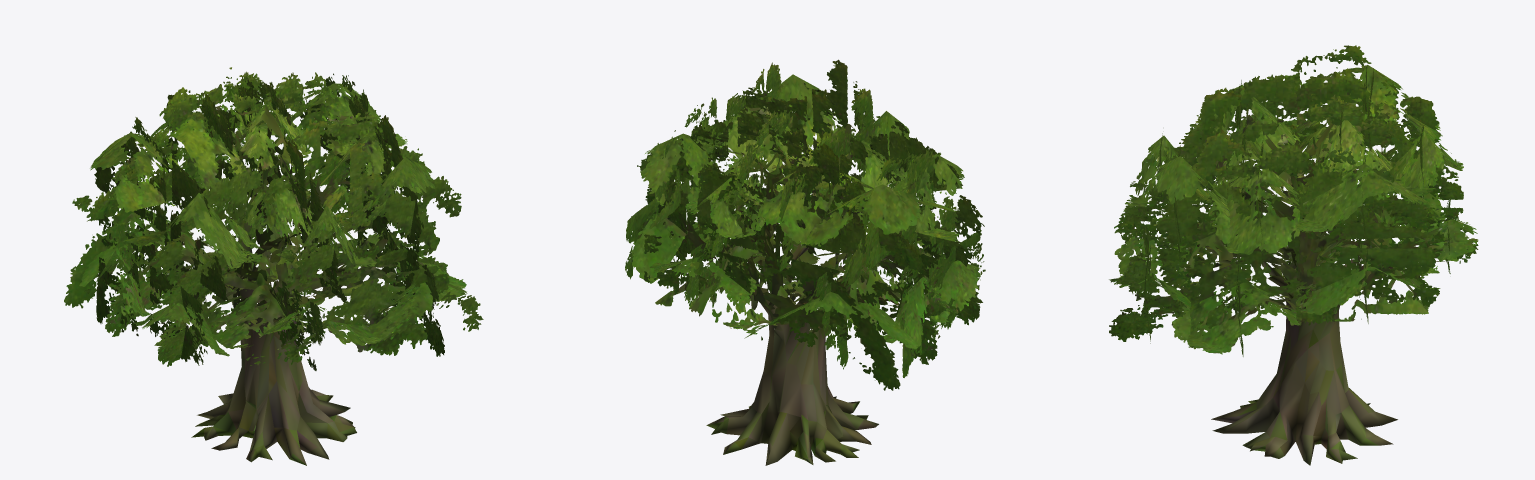
The model's file is tree-1521-far.glb.
3 views of the same model, side by side, from view 1: azimuth 30°, elevation 25°; view 2: azimuth 150°, elevation 25°; view 3: azimuth 270°, elevation 25° (orthographic). The views are drawn at different scales.
Parts seen in each view (by area): view 1: Foliage, Wood; view 2: Foliage, Wood; view 3: Foliage, Wood.
Part boxes in pixels (bbox=[...]): Foliage: bbox=[64, 67, 483, 370]; Wood: bbox=[182, 115, 384, 465]; Foliage: bbox=[625, 59, 985, 390]; Wood: bbox=[706, 106, 899, 465]; Foliage: bbox=[1109, 45, 1478, 356]; Wood: bbox=[1161, 133, 1444, 465].
Size of the model in its own units: 14.12 by 12.66 by 14.33.
Materials: 2 (2 with a texture image).
